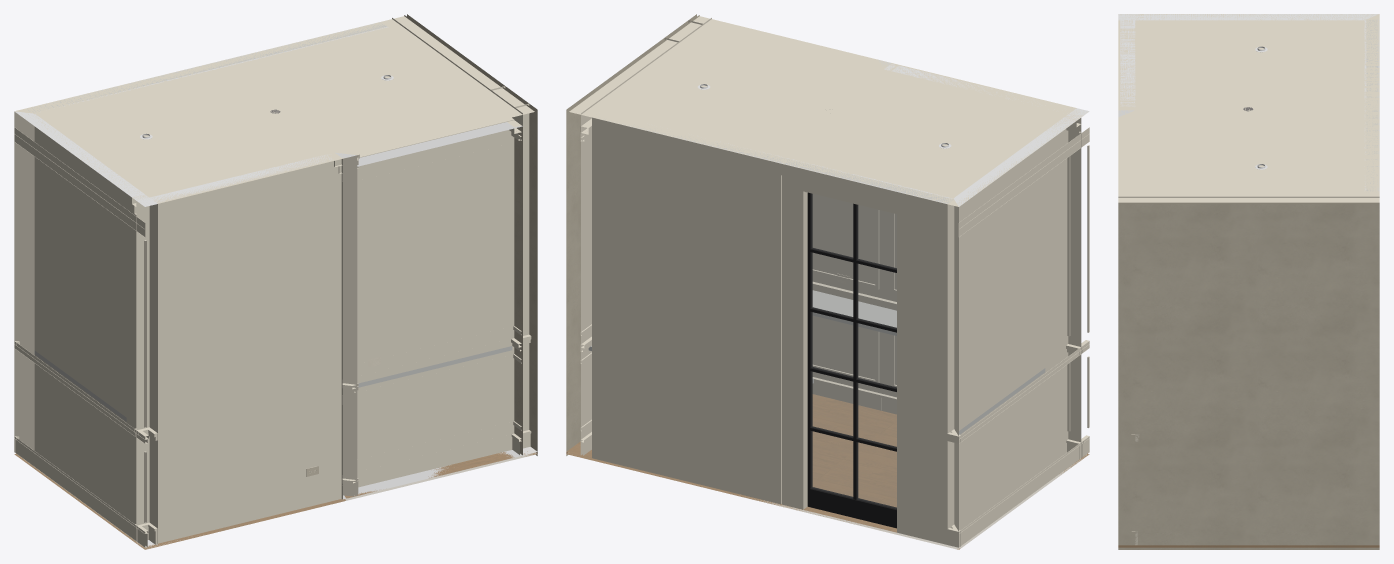
The model's file is pantry-27a8a4bb32a1.glb.
The picture shows the model from 3 angles, left to right: view 1: azimuth 30°, elevation 25°; view 2: azimuth 150°, elevation 25°; view 3: azimuth 270°, elevation 25°; orthographic projection.
Parts seen in each view (by area): view 1: pantry-e1ae12ec9cba52a2, pantry-e64cabe238f3e83a, pantry-2575515a05775d9e, pantry-5b6bbac285e58726, pantry-6a1144f4e43410bb, pantry-e462de76b61e99cf, pantry-1b1dac62f3b0f38e, pantry-ab25ce0be192bde7, pantry-2c29ddcb8551cb02, pantry-e54d813e60c9e7c4, pantry-3b0077416469e01b, pantry-4b4a529ae091588b (+10 smaller); view 2: pantry-bd4023b7987ad736, pantry-2575515a05775d9e, pantry-5b6bbac285e58726, pantry-391f310680cc5508, pantry-e64cabe238f3e83a, pantry-af97eba351c411ae, pantry-3b0077416469e01b, pantry-e1ae12ec9cba52a2, pantry-2c29ddcb8551cb02, pantry-e54d813e60c9e7c4, pantry-1fae004be5e077cf, pantry-af1041973fdfbb5e (+12 smaller); view 3: pantry-af97eba351c411ae, pantry-2575515a05775d9e, pantry-ab25ce0be192bde7, pantry-e462de76b61e99cf, pantry-4b4a529ae091588b, pantry-5b6bbac285e58726, pantry-e1ae12ec9cba52a2, pantry-ecf72e0057751250, pantry-710b1f455b9f0804, pantry-bd4023b7987ad736, pantry-3b0077416469e01b, pantry-76fec1e12e3db62a.
Part boxes in pixels (x1,y1,x2,y2): pantry-e1ae12ec9cba52a2: (149,154,341,543); pantry-e64cabe238f3e83a: (342,122,522,495); pantry-2575515a05775d9e: (15,15,534,203); pantry-5b6bbac285e58726: (14,111,149,540); pantry-6a1144f4e43410bb: (136,197,157,546); pantry-e462de76b61e99cf: (514,104,537,455); pantry-1b1dac62f3b0f38e: (135,434,512,524); pantry-ab25ce0be192bde7: (490,86,529,431); pantry-2c29ddcb8551cb02: (14,437,145,547); pantry-e54d813e60c9e7c4: (14,127,145,236); pantry-3b0077416469e01b: (14,451,537,549); pantry-4b4a529ae091588b: (35,27,391,116); pantry-bd4023b7987ad736: (592,117,954,544); pantry-2575515a05775d9e: (569,15,1087,206); pantry-5b6bbac285e58726: (953,114,1081,547); pantry-391f310680cc5508: (811,194,896,508); pantry-e64cabe238f3e83a: (812,194,883,393); pantry-af97eba351c411ae: (566,37,679,455); pantry-3b0077416469e01b: (566,394,1089,549); pantry-e1ae12ec9cba52a2: (883,64,1067,397); pantry-2c29ddcb8551cb02: (959,437,1089,547); pantry-e54d813e60c9e7c4: (958,127,1089,236); pantry-1fae004be5e077cf: (810,487,896,528); pantry-af1041973fdfbb5e: (807,192,812,506); pantry-af97eba351c411ae: (1183,196,1379,545); pantry-2575515a05775d9e: (1118,14,1379,203); pantry-ab25ce0be192bde7: (1135,196,1182,545); pantry-e462de76b61e99cf: (1118,196,1135,545); pantry-4b4a529ae091588b: (1355,20,1364,192); pantry-5b6bbac285e58726: (1135,14,1378,20); pantry-e1ae12ec9cba52a2: (1120,20,1135,106); pantry-ecf72e0057751250: (1368,19,1376,192); pantry-710b1f455b9f0804: (1135,14,1144,109); pantry-bd4023b7987ad736: (1364,19,1379,191); pantry-3b0077416469e01b: (1118,545,1379,547); pantry-76fec1e12e3db62a: (1118,547,1379,549).
Bounding box in the file's own units: 3.62 × 3.05 × 2.09.
21 materials, 4 textured.
